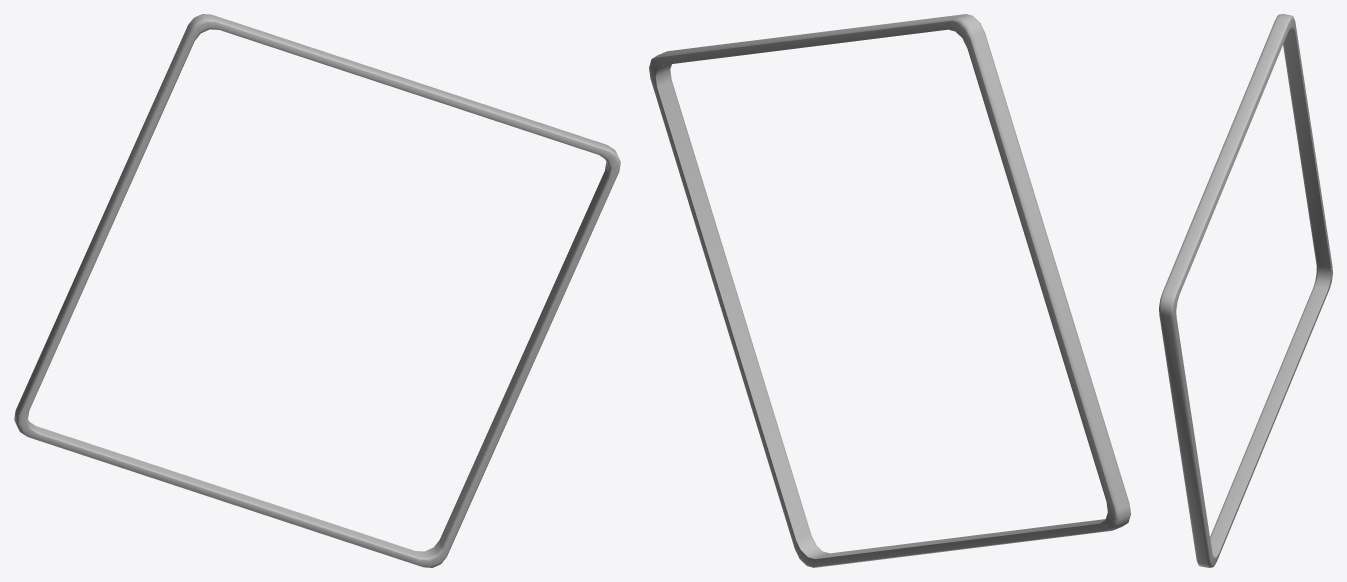
3 renders of one model, left to right at view 1: azimuth 30°, elevation 25°; view 2: azimuth 150°, elevation 25°; view 3: azimuth 270°, elevation 25°, orthographic. The views are drawn at different scales.
Visible parts, largest first — view 1: Cube.006; view 2: Cube.006; view 3: Cube.006.
Part boxes in pixels (bbox=[...]): Cube.006: bbox=[14, 14, 620, 567]; Cube.006: bbox=[649, 14, 1130, 567]; Cube.006: bbox=[1159, 14, 1332, 567].
Size of the model in its own units: 1.33 by 1.39 by 0.4602.
Materials: 1 (1 with a texture image).
